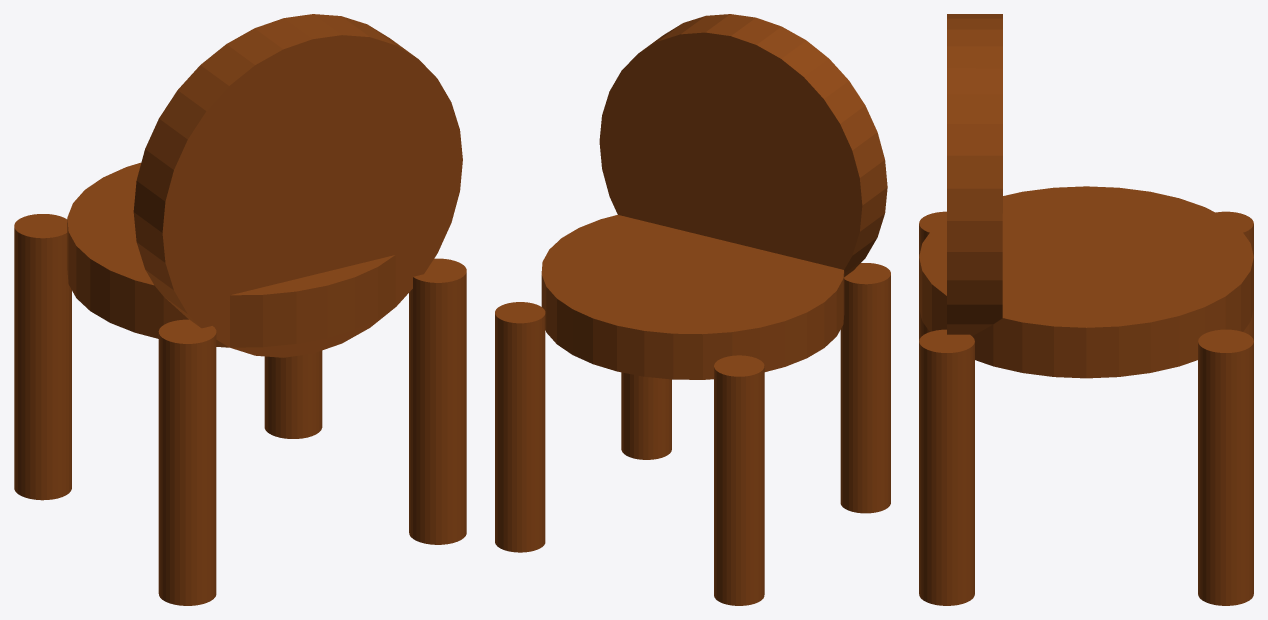
The model's file is generated_model.obj.
3 renders of one model, left to right at view 1: azimuth 30°, elevation 25°; view 2: azimuth 150°, elevation 25°; view 3: azimuth 270°, elevation 25°, orthographic. The views are drawn at different scales.
Visible parts, largest first — view 1: Backrest, Seat, Leg_1, Leg_3, Leg_2, Leg_4; view 2: Backrest, Seat, Leg_3, Leg_4, Leg_1, Leg_2; view 3: Seat, Backrest, Leg_4, Leg_2, Leg_3, Leg_1.
Boxes of the visible parts, left/top/right/bottom form: Backrest: left=133, top=14, right=462, bottom=357; Seat: left=67, top=162, right=395, bottom=347; Leg_1: left=158, top=319, right=216, bottom=605; Leg_3: left=14, top=214, right=71, bottom=500; Leg_2: left=409, top=258, right=466, bottom=544; Leg_4: left=264, top=350, right=322, bottom=438; Backrest: left=599, top=14, right=887, bottom=276; Seat: left=541, top=215, right=844, bottom=379; Leg_3: left=714, top=355, right=764, bottom=605; Leg_4: left=495, top=302, right=545, bottom=552; Leg_1: left=840, top=263, right=890, bottom=513; Leg_2: left=621, top=372, right=671, bottom=459; Seat: left=919, top=186, right=1253, bottom=378; Backrest: left=947, top=14, right=1002, bottom=335; Leg_4: left=1198, top=329, right=1253, bottom=605; Leg_2: left=919, top=329, right=974, bottom=605; Leg_3: left=1216, top=211, right=1253, bottom=340; Leg_1: left=919, top=211, right=946, bottom=340.
Bounding box in the file's own units: 0.6 × 1 × 0.6.
